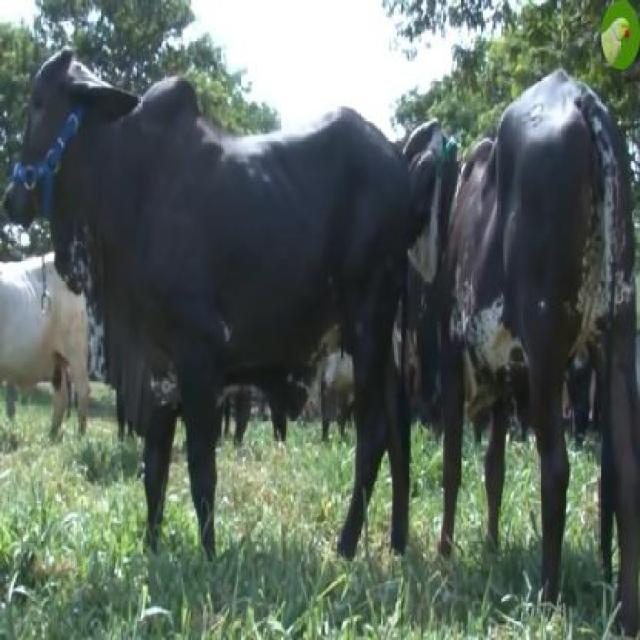Cow: (3, 49, 414, 566)
